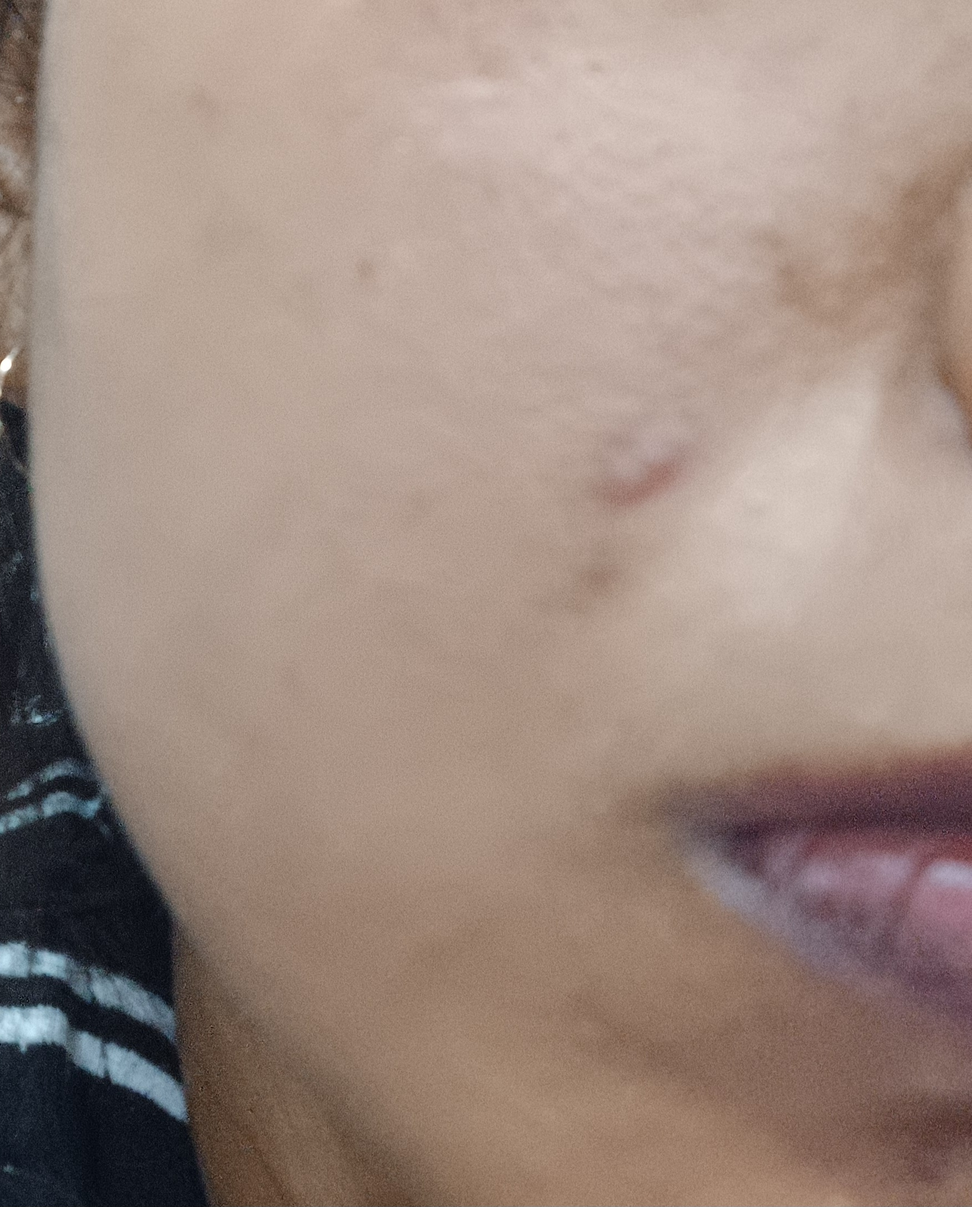papule: (560, 421, 707, 513)
